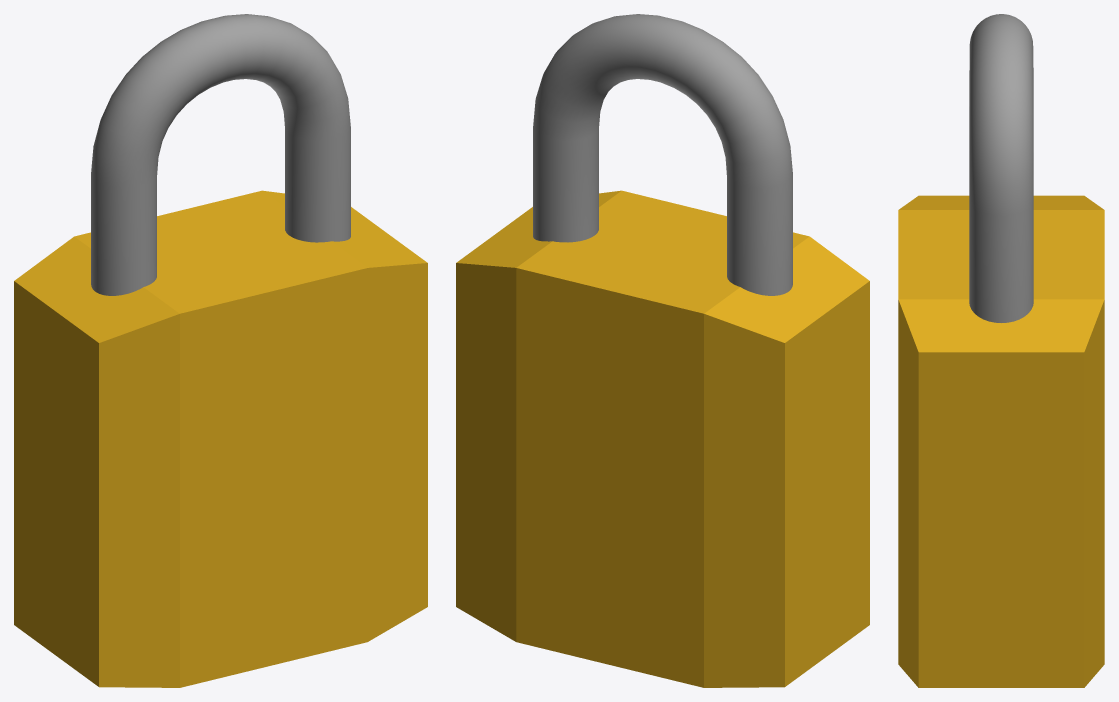
Rendered from lock.fbx.
3 views of the same model, side by side, from view 1: azimuth 30°, elevation 25°; view 2: azimuth 150°, elevation 25°; view 3: azimuth 270°, elevation 25° (orthographic). The views are drawn at different scales.
Parts seen in each view (by area): view 1: Cylinder; view 2: Cylinder; view 3: Cylinder.
Part boxes in pixels (x1,y1,x2,y2): Cylinder: [14, 14, 427, 687]; Cylinder: [456, 14, 869, 687]; Cylinder: [898, 14, 1104, 687].
Size of the model in its own units: 200 by 111 by 352.
